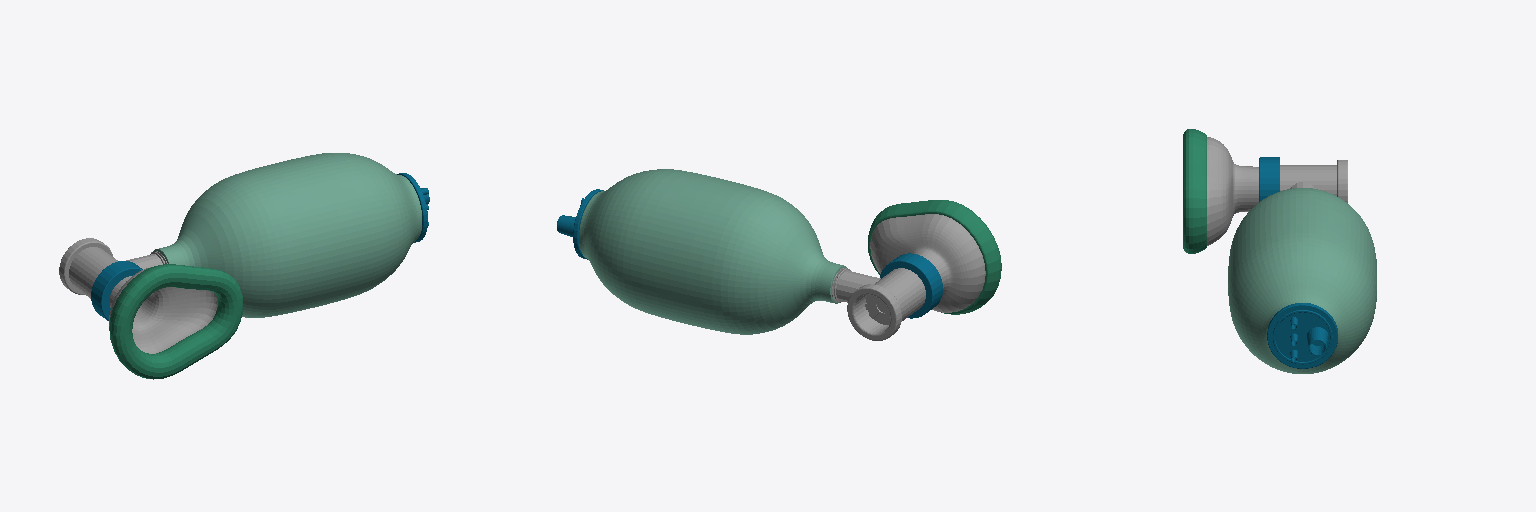
File: airbag.obj
The picture shows the model from 3 angles: view 1: azimuth 30°, elevation 25°; view 2: azimuth 150°, elevation 25°; view 3: azimuth 270°, elevation 25°; orthographic projection.
Visible parts, largest first — view 1: cadnav_com; view 2: cadnav_com; view 3: cadnav_com.
Boxes of the visible parts, <box> form: cadnav_com: <box>59,153,429,379</box>; cadnav_com: <box>557,169,1001,340</box>; cadnav_com: <box>1183,129,1376,373</box>.
Bounding box in the file's own units: 146 × 50.15 × 65.4.